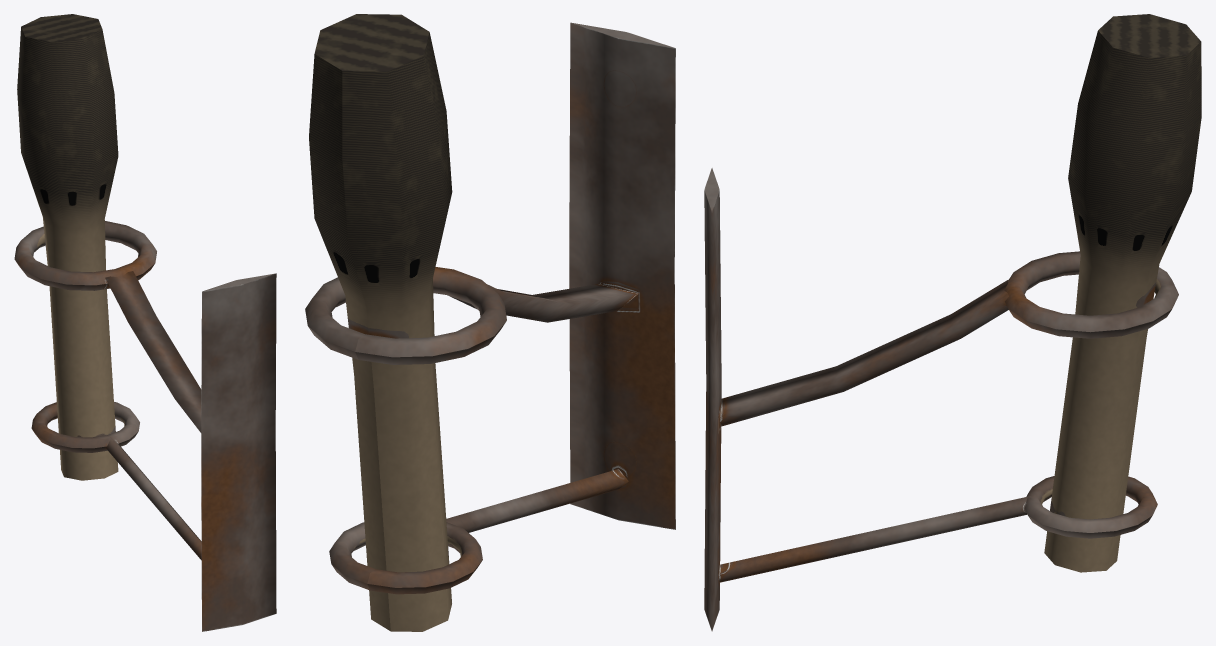
File: SM_Camp_WallBracket.fbx
3 views of the same model, side by side, from view 1: azimuth 30°, elevation 25°; view 2: azimuth 150°, elevation 25°; view 3: azimuth 270°, elevation 25° (orthographic). The views are drawn at different scales.
Visible parts, largest first — view 1: SM_Camp_WallBracket; view 2: SM_Camp_WallBracket; view 3: SM_Camp_WallBracket.
Part boxes in pixels (x1=…): SM_Camp_WallBracket: x1=14, y1=14, x2=276, y2=631; SM_Camp_WallBracket: x1=305, y1=14, x2=675, y2=631; SM_Camp_WallBracket: x1=704, y1=14, x2=1201, y2=631.
Bounding box in the file's own units: 9.2 × 25.77 × 33.11.
